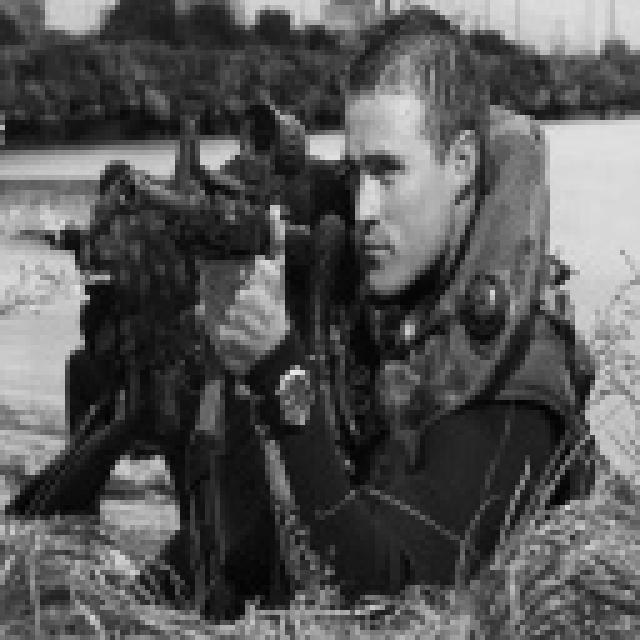Rifle: (0, 66, 403, 640)
